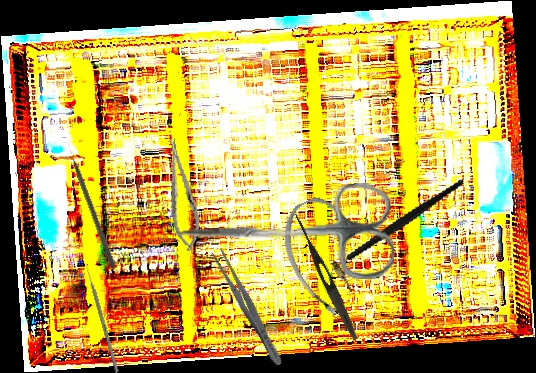Cannula: (269, 190, 379, 323)
Chopper: (311, 178, 480, 283)
Dressing Forceps: (289, 211, 362, 343), (209, 247, 287, 369)
Iris Scissors: (171, 182, 395, 286)
Needle Holder: (159, 136, 205, 253)
Pusher: (64, 140, 118, 269), (83, 261, 120, 373)
